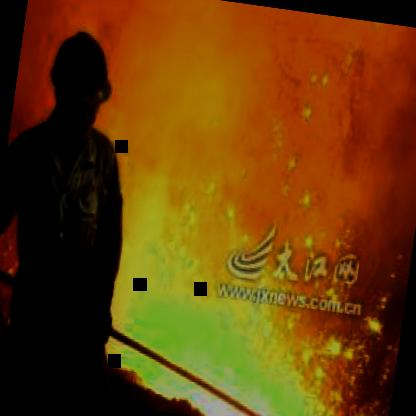helmet: (41, 28, 120, 144)
